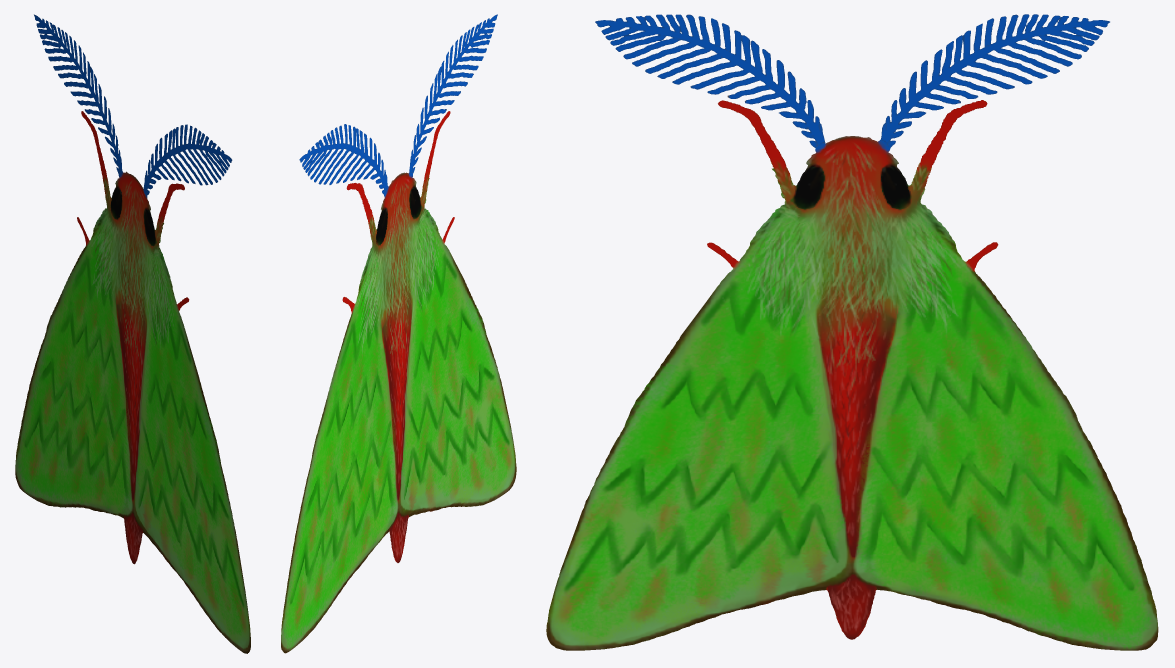
Rendered from coloured_moth 1.fbx.
3 renders of one model, left to right at view 1: azimuth 30°, elevation 25°; view 2: azimuth 150°, elevation 25°; view 3: azimuth 270°, elevation 25°, orthographic. The views are drawn at different scales.
Parts seen in each view (by area): view 1: d7ceda84-6232-452d-aa17-d7808568258b; view 2: d7ceda84-6232-452d-aa17-d7808568258b; view 3: d7ceda84-6232-452d-aa17-d7808568258b.
Part boxes in pixels (bbox=[...]): d7ceda84-6232-452d-aa17-d7808568258b: bbox=[15, 14, 250, 653]; d7ceda84-6232-452d-aa17-d7808568258b: bbox=[281, 14, 516, 653]; d7ceda84-6232-452d-aa17-d7808568258b: bbox=[546, 14, 1158, 650].
Bounding box in the file's own units: 5.62e-08 × 0.5493 × 0.4784.
Materials: 1 (1 with a texture image).
